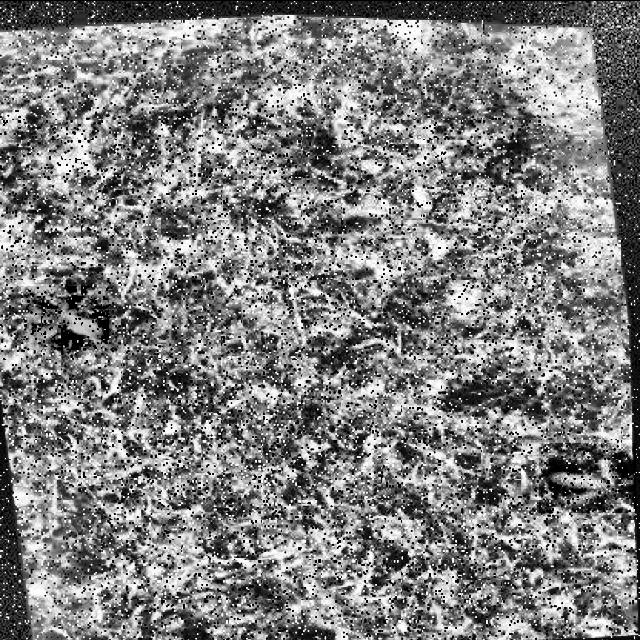Weeds: (539, 442, 636, 512), (26, 285, 109, 349)
